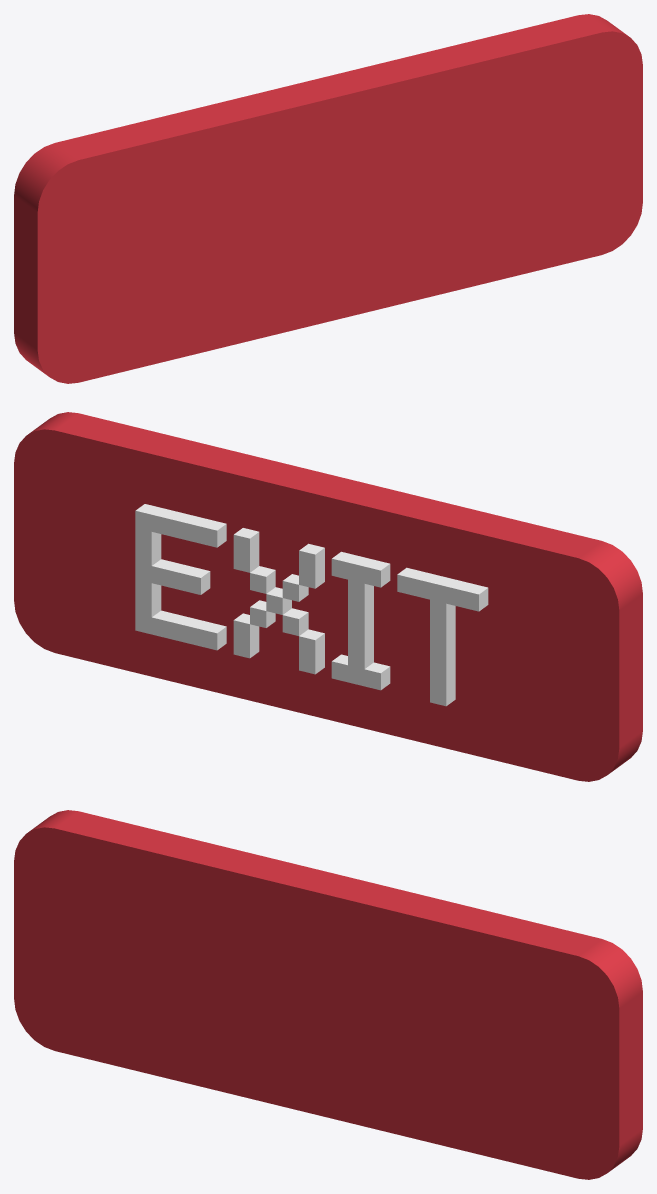
The model's file is BotonExit.obj.
3 renders of one model, top to bottom at view 1: azimuth 30°, elevation 25°; view 2: azimuth 150°, elevation 25°; view 3: azimuth 330°, elevation 25°, orthographic.
Visible parts, largest first — view 1: BotonExit; view 2: BotonExit; view 3: BotonExit.
Part boxes in pixels (x1=…): BotonExit: x1=14, y1=14, x2=642, y2=383; BotonExit: x1=14, y1=412, x2=642, y2=781; BotonExit: x1=14, y1=810, x2=642, y2=1179.
Bounding box in the file's own units: 3.7 × 1.3 × 0.35.
